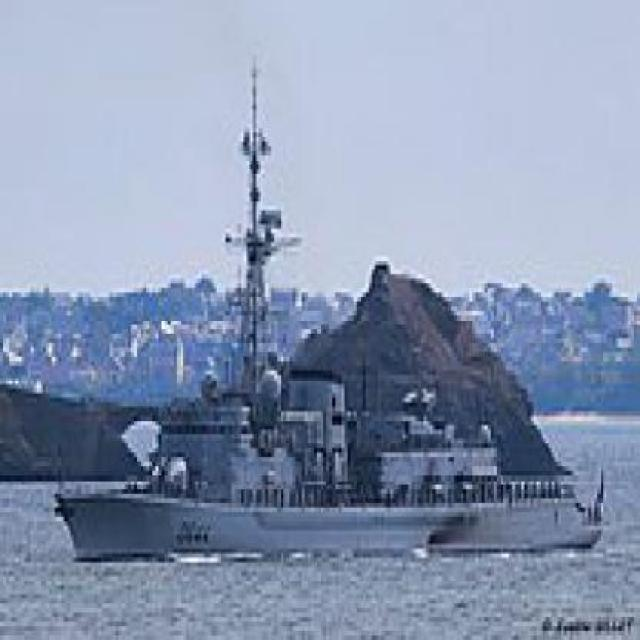warship2: (71, 32, 623, 605)
